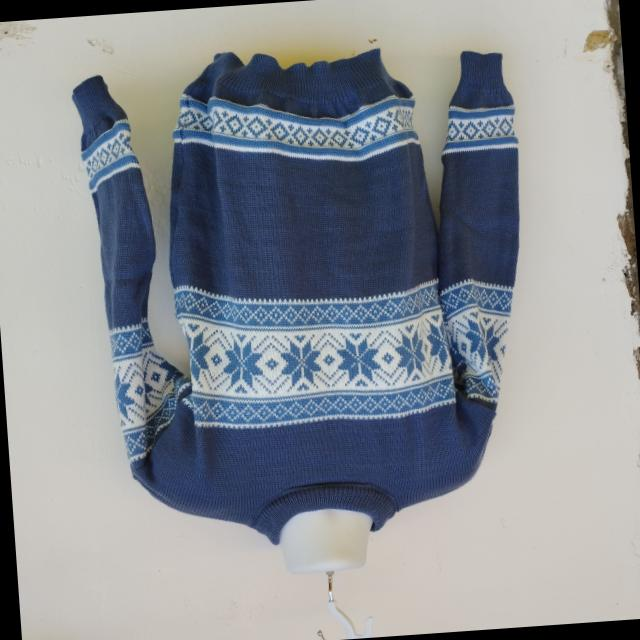Chompa: (70, 32, 547, 579)
